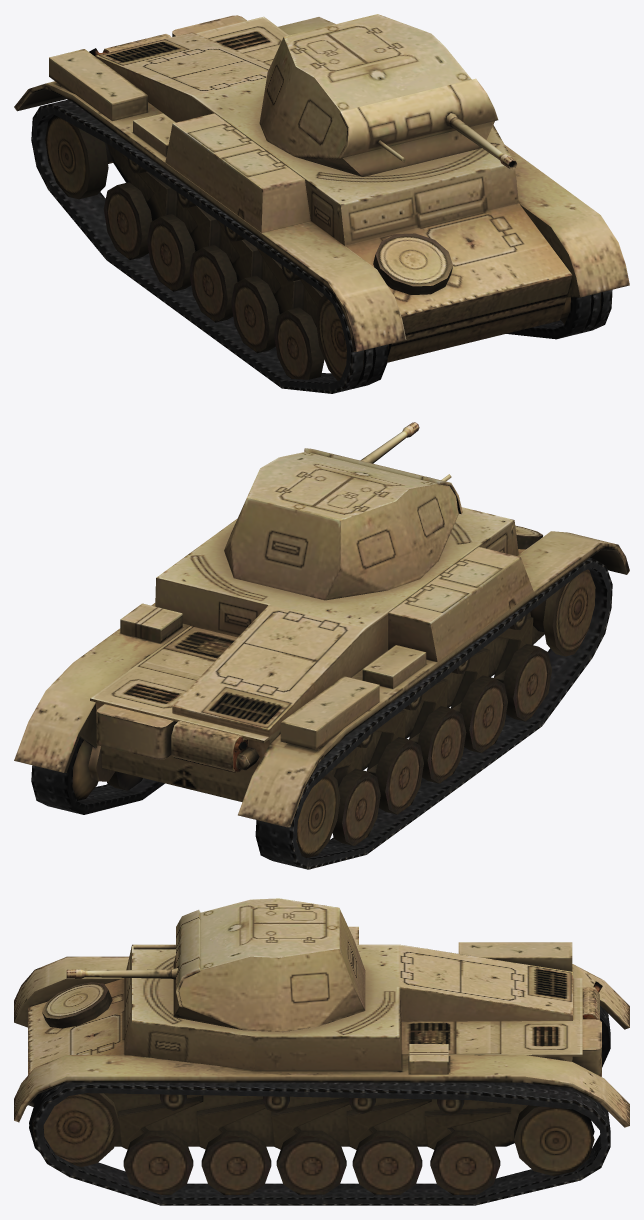
Rendered from II号坦克.FBX.
3 views of the same model, one above another, from view 1: azimuth 30°, elevation 25°; view 2: azimuth 150°, elevation 25°; view 3: azimuth 270°, elevation 25° (orthographic). The views are drawn at different scales.
Parts seen in each view (by area): view 1: IV号G型_body, IV号G型_battery, IV号G型_track, IV号G型_barrel; view 2: IV号G型_body, IV号G型_battery, IV号G型_track, IV号G型_barrel; view 3: IV号G型_body, IV号G型_battery, IV号G型_track, IV号G型_barrel.
Boxes of the visible parts, x1=… form: IV号G型_body: x1=14, y1=15, x2=629, y2=388; IV号G型_battery: x1=259, y1=14, x2=498, y2=176; IV号G型_track: x1=31, y1=99, x2=612, y2=393; IV号G型_barrel: x1=450, y1=117, x2=516, y2=169; IV号G型_body: x1=14, y1=507, x2=629, y2=858; IV号G型_battery: x1=224, y1=448, x2=462, y2=600; IV号G型_track: x1=31, y1=558, x2=612, y2=869; IV号G型_barrel: x1=360, y1=422, x2=419, y2=463; IV号G型_body: x1=14, y1=926, x2=629, y2=1194; IV号G型_battery: x1=133, y1=898, x2=365, y2=1032; IV号G型_track: x1=33, y1=1005, x2=610, y2=1205; IV号G型_barrel: x1=66, y1=969, x2=170, y2=978.
Bounding box in the file's own units: 2.28 × 2.02 × 4.95.
